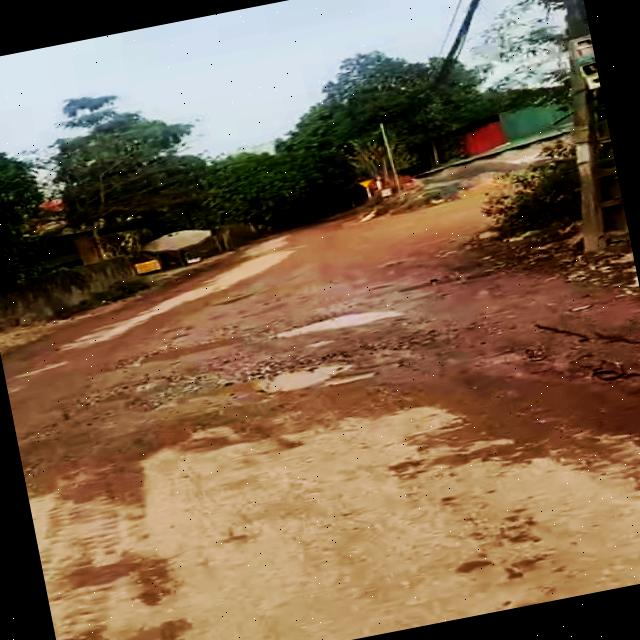pothole: (132, 344, 370, 425), (272, 302, 410, 344), (130, 326, 256, 371), (86, 372, 181, 410)
